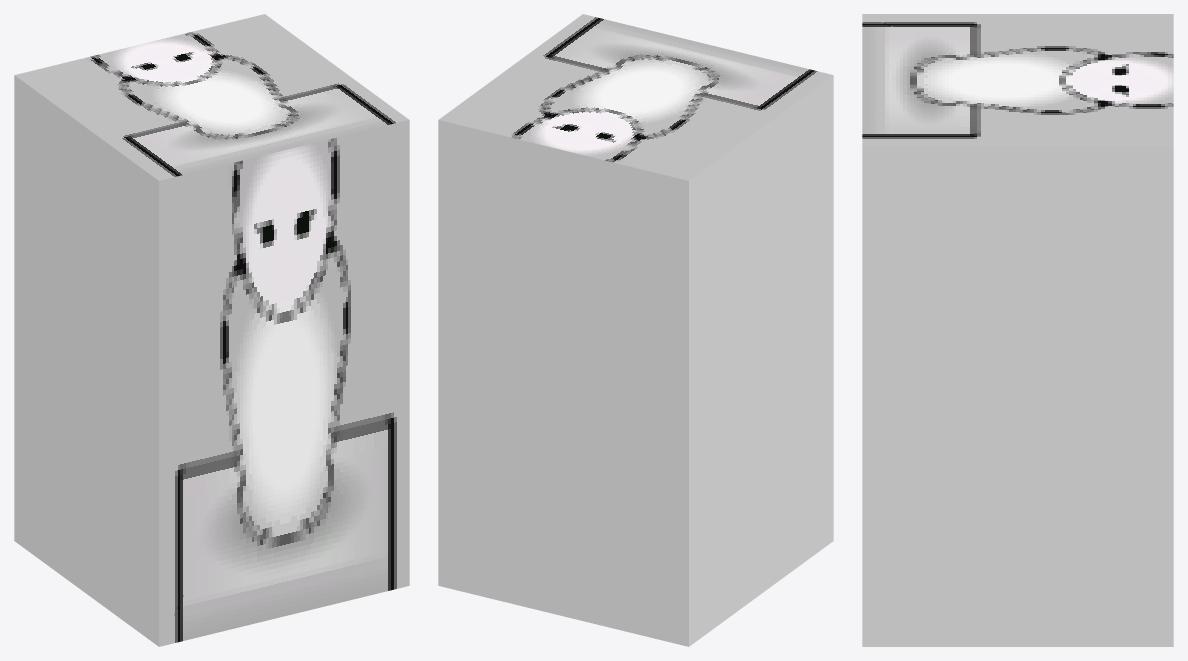
The model's file is Building_Statue.glb.
The picture shows the model from 3 angles, left to right: view 1: azimuth 30°, elevation 25°; view 2: azimuth 150°, elevation 25°; view 3: azimuth 270°, elevation 25°; orthographic projection. The views are drawn at different scales.
Visible parts, largest first — view 1: Statue; view 2: Statue; view 3: Statue.
Boxes of the visible parts, x1=… form: Statue: x1=14, y1=14, x2=409, y2=646; Statue: x1=438, y1=14, x2=833, y2=646; Statue: x1=862, y1=14, x2=1173, y2=646.
Bounding box in the file's own units: 0.9 × 1.6 × 0.9.
Materials: 1 (1 with a texture image).
